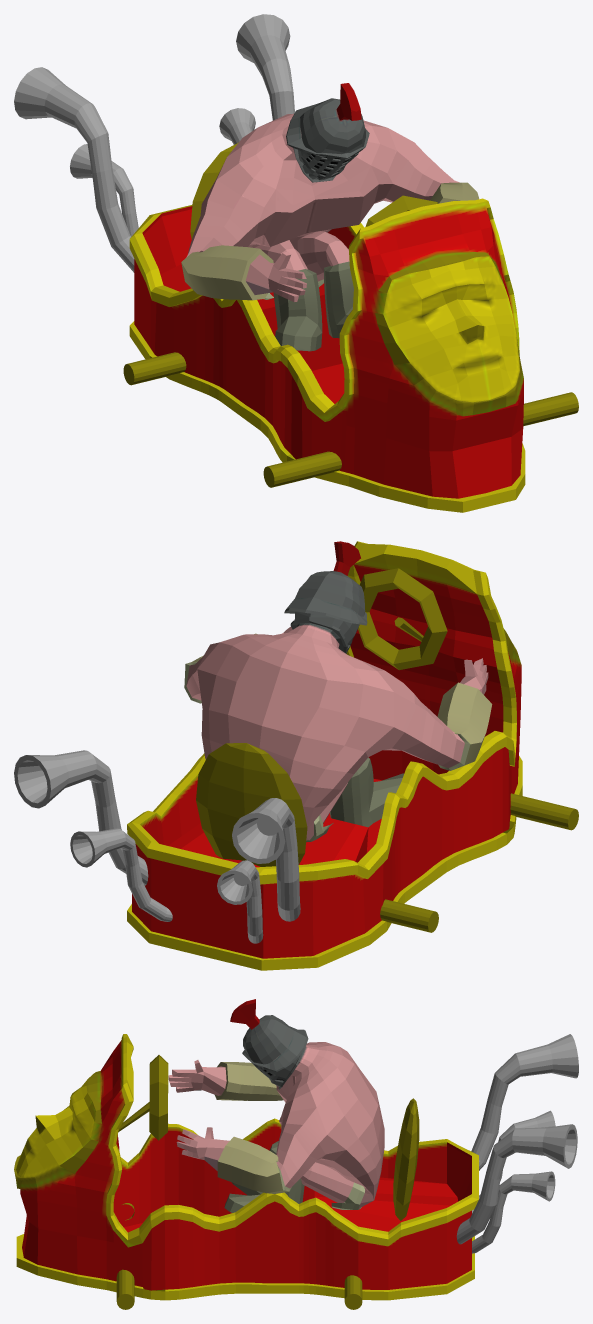
The model's file is GladiHabilidad_000522.obj.
3 views of the same model, one above another, from view 1: azimuth 30°, elevation 25°; view 2: azimuth 150°, elevation 25°; view 3: azimuth 270°, elevation 25° (orthographic). The views are drawn at different scales.
Parts seen in each view (by area): view 1: GladiChasis_GladiChasisH, Gadiador_Gladiador_H.001, GladiTubos_GladiTubosH, GladiVolante_GladiVolanteH; view 2: GladiChasis_GladiChasisH, Gadiador_Gladiador_H.001, GladiVolante_GladiVolanteH, GladiTubos_GladiTubosH; view 3: GladiChasis_GladiChasisH, Gadiador_Gladiador_H.001, GladiTubos_GladiTubosH, GladiVolante_GladiVolanteH.
Boxes of the visible parts, x1,y1,x2,y2 form: GladiChasis_GladiChasisH: (129,198,525,512); Gadiador_Gladiador_H.001: (181,83,479,351); GladiTubos_GladiTubosH: (14,14,294,272); GladiVolante_GladiVolanteH: (123,142,578,487); GladiChasis_GladiChasisH: (127,541,522,970); Gadiador_Gladiador_H.001: (184,541,492,842); GladiVolante_GladiVolanteH: (196,568,578,932); GladiTubos_GladiTubosH: (14,750,300,943); GladiChasis_GladiChasisH: (14,1034,478,1300); Gadiador_Gladiador_H.001: (168,999,384,1212); GladiTubos_GladiTubosH: (456,1034,578,1253); GladiVolante_GladiVolanteH: (116,1055,419,1309).
Size of the model in its own units: 5.46 by 5.4 by 10.78.
